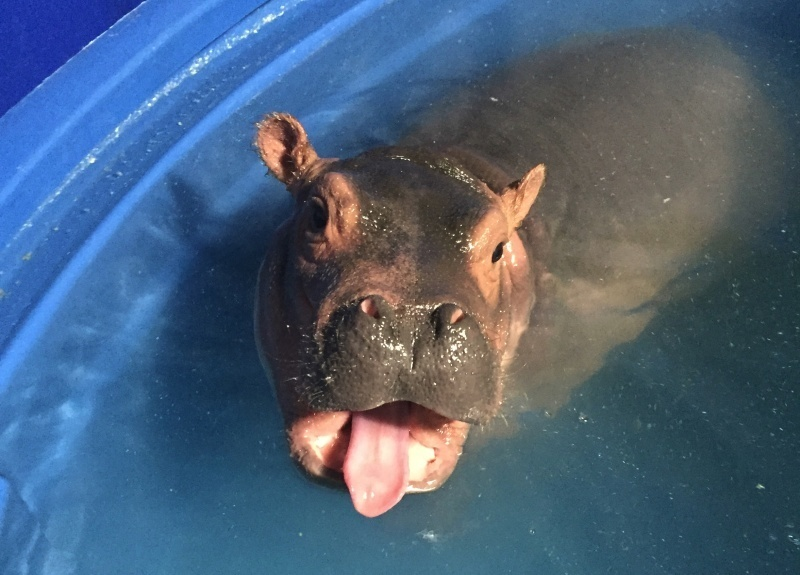hipopotamo: (214, 69, 578, 549)
